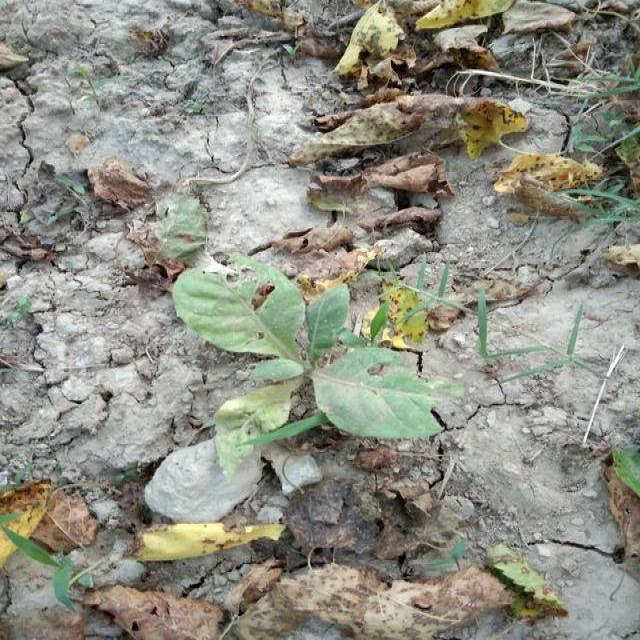crop: (177, 259, 443, 464)
